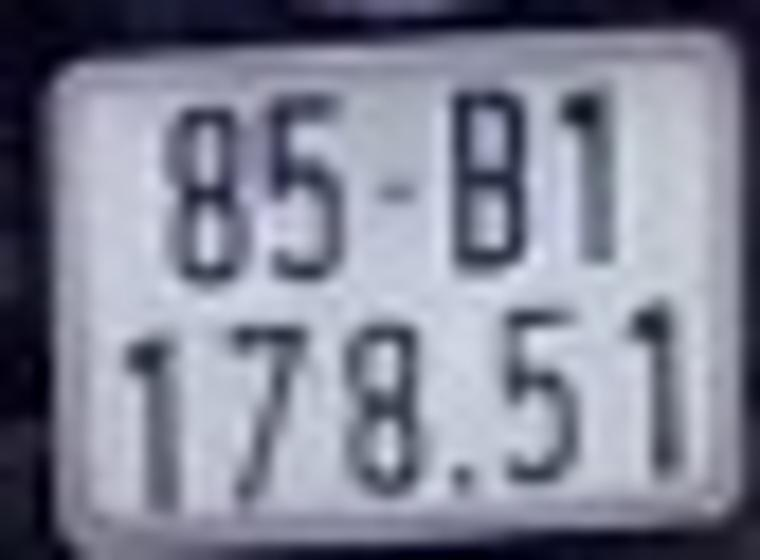-: (374, 174, 419, 208)
.: (449, 460, 477, 503)
1: (118, 335, 191, 519), (561, 78, 630, 261), (628, 300, 693, 484)
5: (259, 92, 351, 291), (491, 297, 583, 488)
7: (222, 312, 315, 514)
8: (343, 322, 430, 503), (164, 100, 250, 282)
B: (443, 80, 537, 273)
